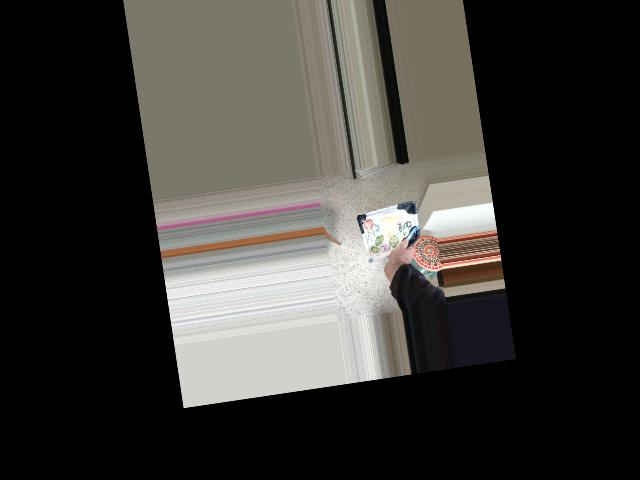cheese: (359, 218, 416, 272)
